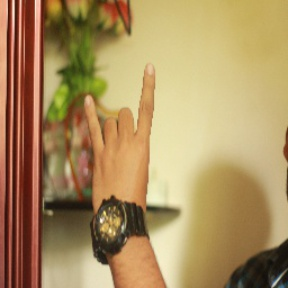V: (70, 61, 173, 218)
